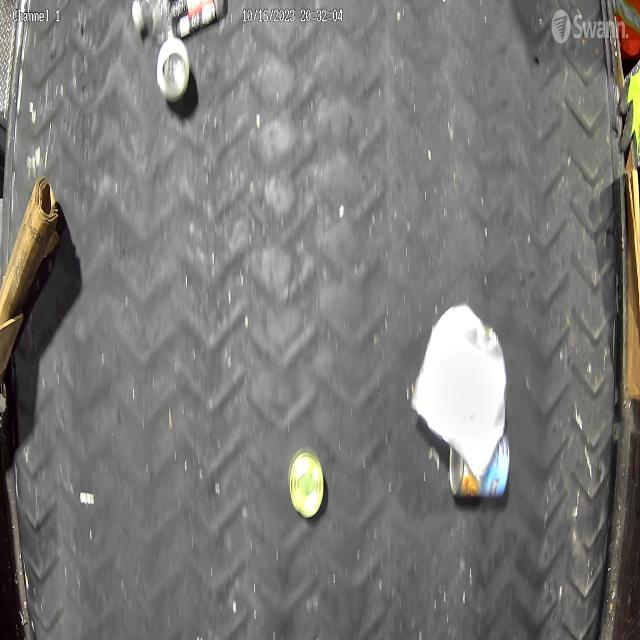can: (450, 430, 510, 500), (288, 447, 325, 519), (157, 37, 190, 102)
